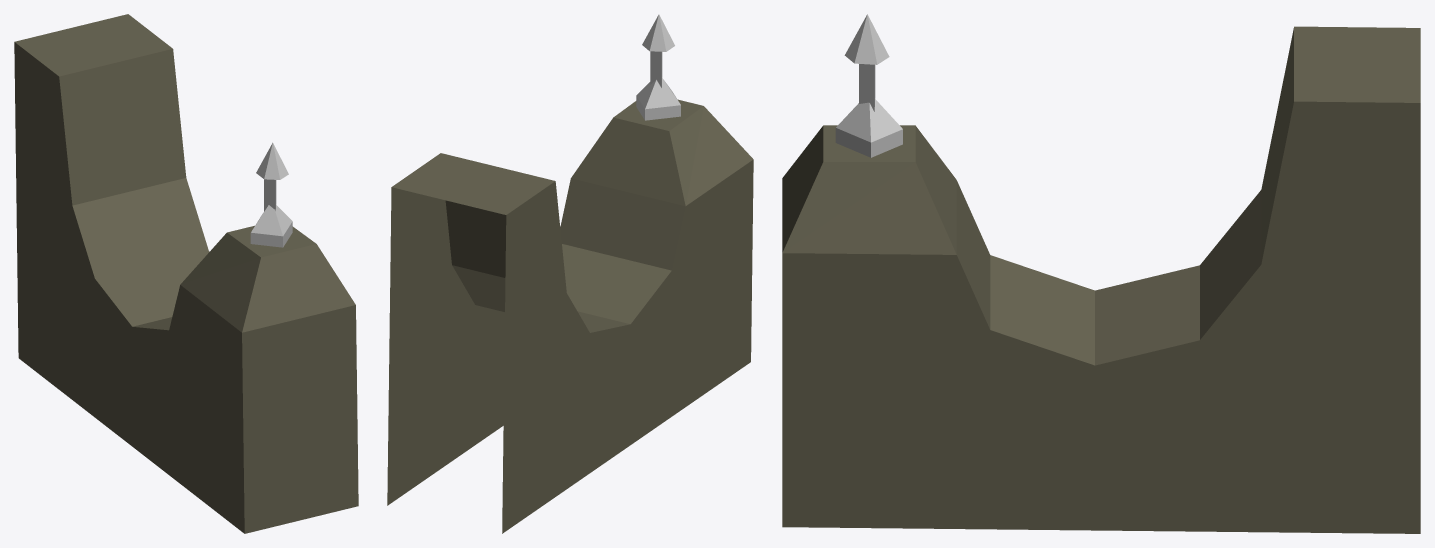
File: OC_DECOWALL_01.OBJ
3 views of the same model, side by side, from view 1: azimuth 30°, elevation 25°; view 2: azimuth 150°, elevation 25°; view 3: azimuth 270°, elevation 25° (orthographic). The views are drawn at different scales.
Parts seen in each view (by area): view 1: OC_DECOWALL_01; view 2: OC_DECOWALL_01; view 3: OC_DECOWALL_01.
Boxes of the visible parts, x1,y1,x2,y2 form: OC_DECOWALL_01: [14, 14, 358, 533]; OC_DECOWALL_01: [387, 14, 753, 533]; OC_DECOWALL_01: [782, 14, 1420, 533].
Bounding box in the file's own units: 0.6257 × 1.67 × 2.02.
